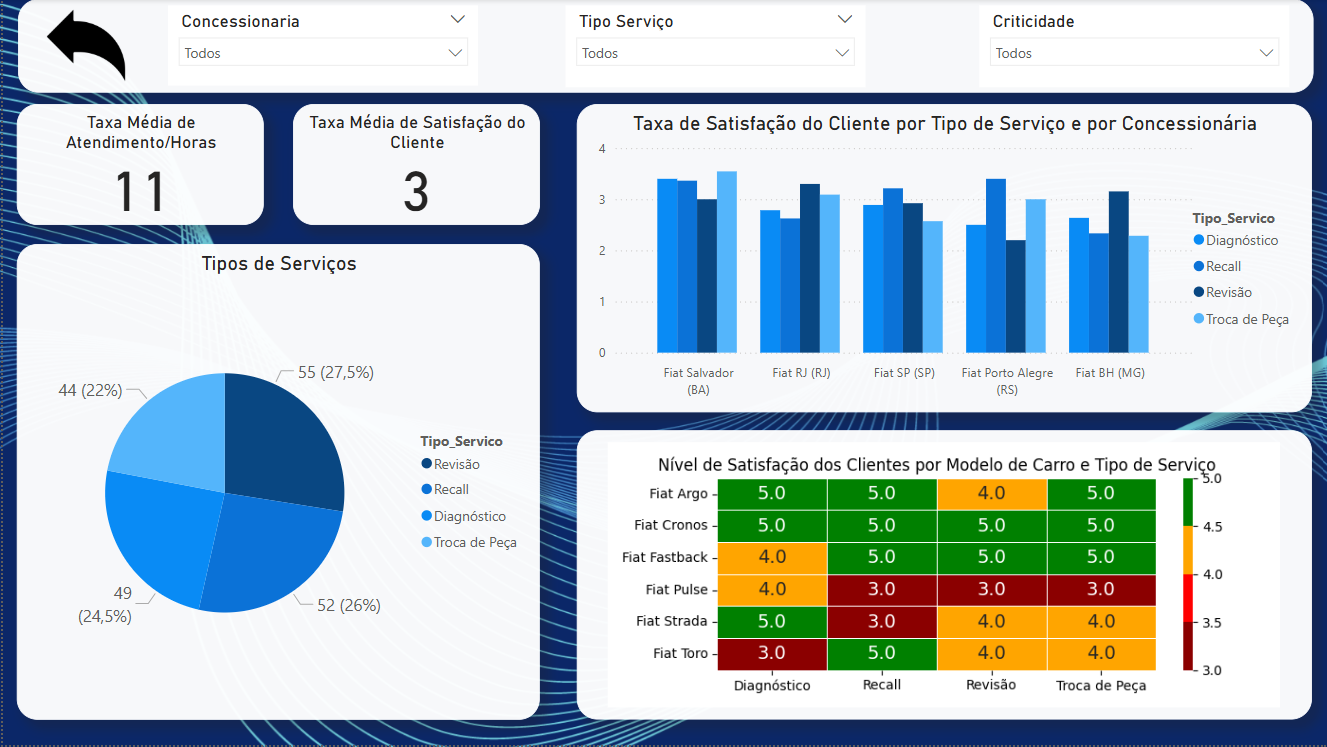

The dashboard page shown, as its layout file describes it:
{"tool":"powerbi","page":{"name":"Manutenção","canvas":[1280,720],"ordinal":2},"visuals":[{"type":"actionButton","box":[14,0,1250,90],"z":0},{"type":"card","title":"Taxa Média de Atendimento/Horas","fields":{"Values":["Manutenção e Pós Vendas.Tempo Médio de Atendimento"]},"box":[13.5,101.6,238.7,116.8],"z":1000},{"type":"card","title":"Taxa Média de Satisfação do Cliente","fields":{"Values":["Manutenção e Pós Vendas.Taxa Média de Satisfação do Cliente"]},"box":[279.4,101.6,238.7,116.8],"z":2000},{"type":"clusteredColumnChart","title":"Taxa de Satisfação do Cliente por Tipo de Serviço e por Concessionária","fields":{"Category":["Manutenção e Pós Vendas.Concessionaria"],"Series":["Manutenção e Pós Vendas.Tipo_Servico"],"Y":["Manutenção e Pós Vendas.Taxa Média de Satisfação do Cliente"]},"box":[553.7,101.6,709.4,298],"z":3000},{"type":"pieChart","title":"Tipos de Serviços","fields":{"Category":["Manutenção e Pós Vendas.Tipo_Servico"],"Y":["CountNonNull(Manutenção e Pós Vendas.Tipo_Servico)"]},"box":[13.5,237,504.6,458.8],"z":4000},{"type":"pythonVisual","fields":{"Values":["Manutenção e Pós Vendas.Modelo_Carro","Manutenção e Pós Vendas.Tipo_Servico","Count(Manutenção e Pós Vendas.Satisfacao_Cliente)"]},"box":[553.7,416.5,709.4,279.4],"z":5000},{"type":"slicer","fields":{"Values":["Manutenção e Pós Vendas.Concessionaria"]},"box":[159.8,5.8,299.5,77.8],"z":7000},{"type":"slicer","fields":{"Values":["Manutenção e Pós Vendas.Criticidade"]},"box":[941.8,5.8,299.5,79.2],"z":8000},{"type":"slicer","fields":{"Values":["Manutenção e Pós Vendas.Tipo_Servico"]},"box":[542.9,5.8,289.4,79.2],"z":9000},{"type":"image","box":[27.7,0,105,90.5],"z":9001}]}

Visuals, with their boxes in screenshot pixels (x1, y1, x2, y2), scaled from the page's 1280x720 canvas onto the 1327x747 screenshot:
actionButton: <region>15, 0, 1310, 93</region>
"Taxa Média de Atendimento/Horas" card: <region>14, 105, 261, 227</region>
"Taxa Média de Satisfação do Cliente" card: <region>290, 105, 537, 227</region>
"Taxa de Satisfação do Cliente por Tipo de Serviço e por Concessionária" clusteredColumnChart: <region>574, 105, 1309, 415</region>
"Tipos de Serviços" pieChart: <region>14, 246, 537, 722</region>
pythonVisual - Manutenção e Pós Vendas.Modelo_Carro x Manutenção e Pós Vendas.Tipo_Servico: <region>574, 432, 1309, 722</region>
slicer - Manutenção e Pós Vendas.Concessionaria: <region>166, 6, 476, 87</region>
slicer - Manutenção e Pós Vendas.Criticidade: <region>976, 6, 1287, 88</region>
slicer - Manutenção e Pós Vendas.Tipo_Servico: <region>563, 6, 863, 88</region>
image: <region>29, 0, 138, 94</region>
